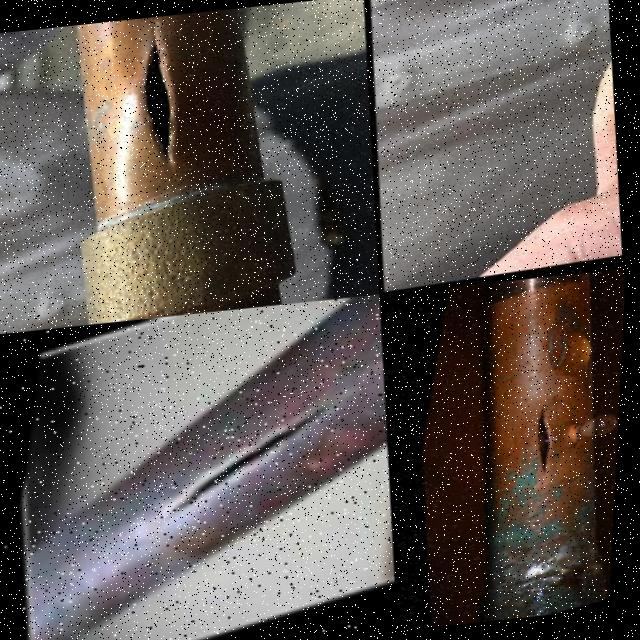crack: (147, 401, 330, 535)
rupture: (77, 14, 209, 189), (513, 400, 574, 486)
